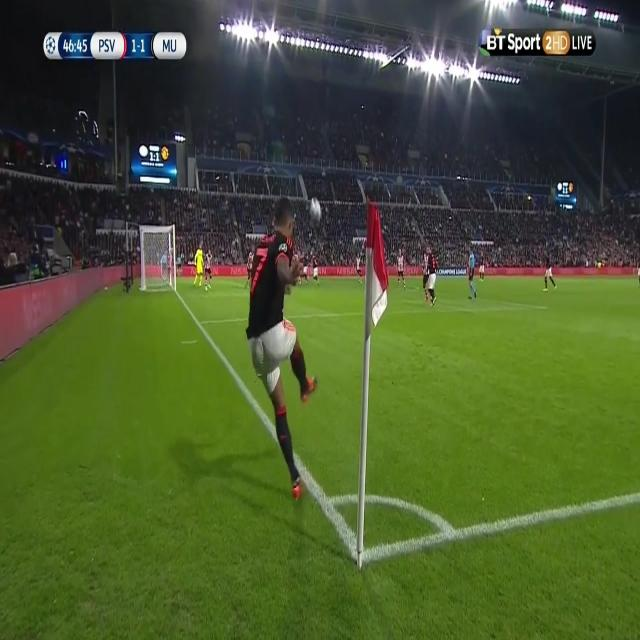Ball: (305, 193, 324, 227)
Goalkeeper: (192, 240, 205, 291)
Player: (243, 195, 320, 498), (540, 246, 558, 294), (427, 243, 439, 309), (244, 245, 256, 292), (394, 246, 406, 290), (204, 249, 214, 292), (352, 250, 364, 284), (310, 250, 320, 284), (477, 249, 486, 285)
Referee: (466, 247, 479, 306)
